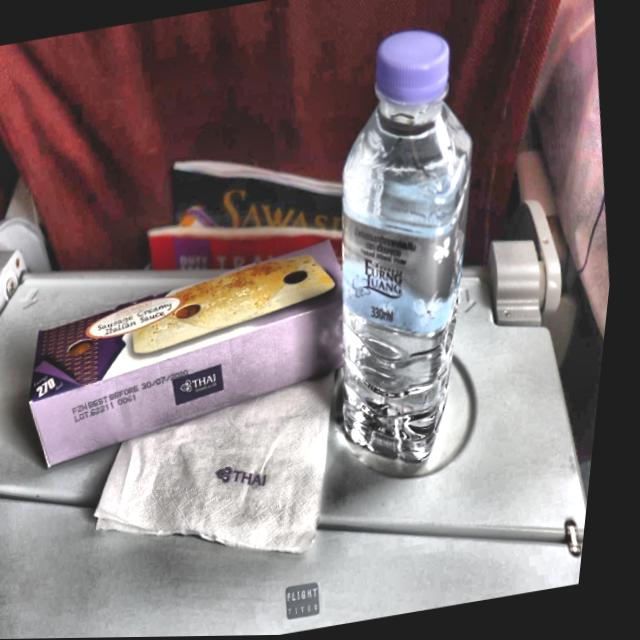Bottles: (284, 6, 536, 483)
